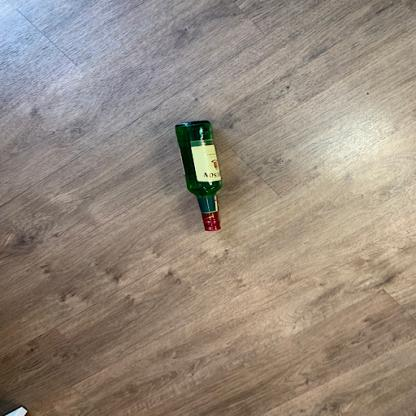trash: (174, 121, 227, 235)
